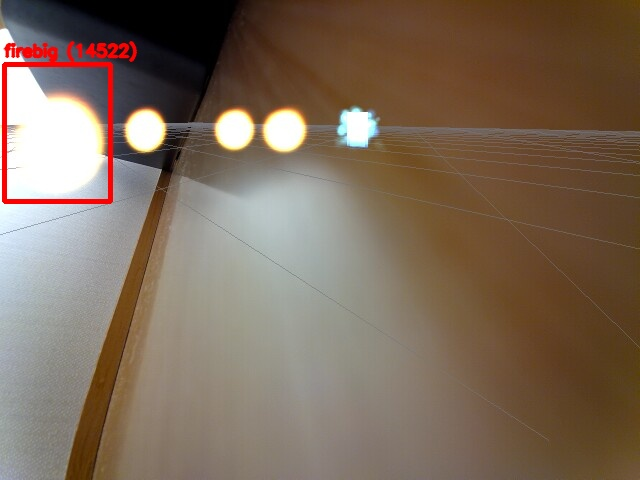firebig: (4, 64, 110, 201)
